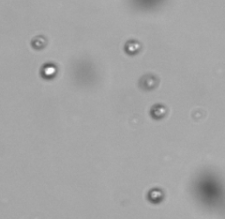Dead Cell: (151, 104, 168, 119), (141, 74, 159, 88), (31, 35, 47, 49), (124, 41, 142, 53), (149, 188, 164, 201)
Living Cell: (42, 63, 58, 77)
